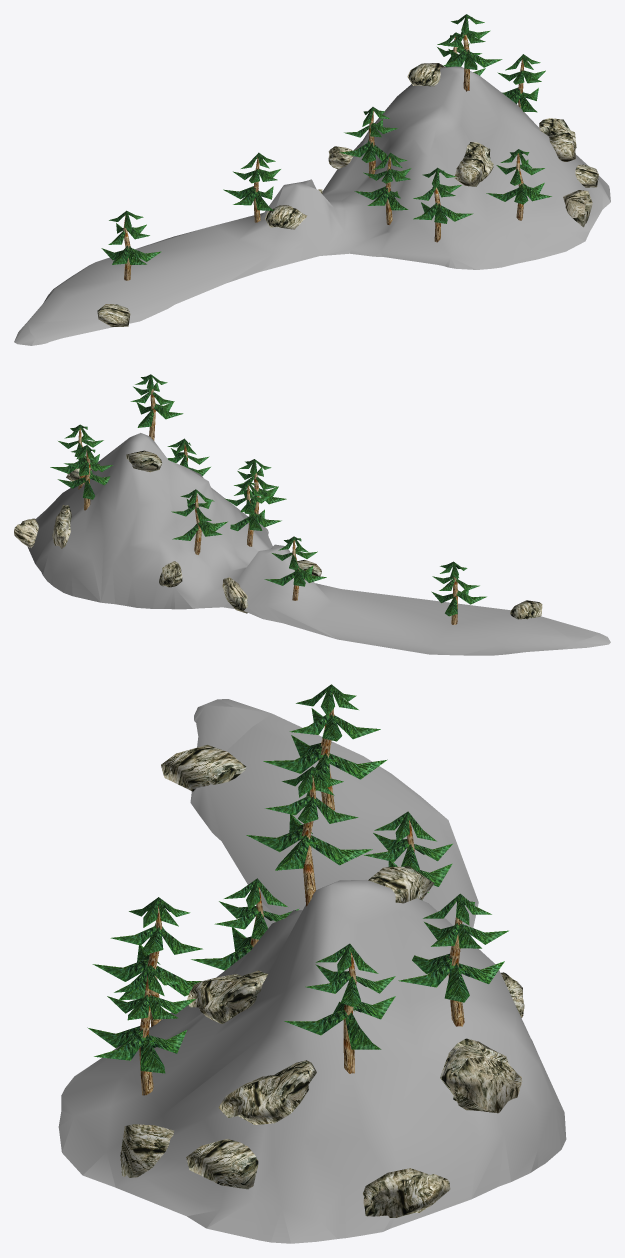
Rendered from snow_island_06.fbx.
3 views of the same model, one above another, from view 1: azimuth 30°, elevation 25°; view 2: azimuth 150°, elevation 25°; view 3: azimuth 270°, elevation 25° (orthographic). The views are drawn at different scales.
Visible parts, largest first — view 1: snow_island_06; view 2: snow_island_06; view 3: snow_island_06.
Part boxes in pixels (<box>): snow_island_06: <box>14,14,610,345</box>; snow_island_06: <box>14,374,610,655</box>; snow_island_06: <box>58,684,566,1243</box>.
Bounding box in the file's own units: 0.5877 × 0.1892 × 0.2314.
2 materials, 1 textured.
